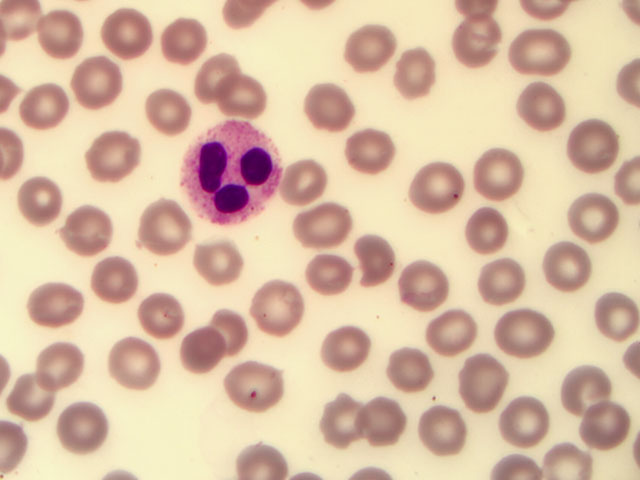RBC: (38, 10, 85, 55), (22, 87, 69, 132), (72, 58, 119, 103), (102, 10, 149, 55), (165, 15, 212, 60), (191, 53, 238, 98), (214, 71, 261, 116), (145, 89, 192, 134), (89, 134, 136, 179), (18, 175, 65, 220), (62, 208, 109, 253), (142, 201, 189, 246), (94, 257, 141, 302), (30, 281, 77, 326), (39, 339, 86, 384), (12, 375, 59, 420), (59, 404, 106, 449), (110, 341, 157, 386), (136, 296, 183, 341), (182, 325, 229, 370), (209, 308, 256, 353), (197, 238, 244, 283), (253, 286, 300, 331), (229, 363, 276, 408), (304, 262, 351, 307), (298, 209, 345, 254), (287, 159, 334, 204), (343, 128, 390, 173), (307, 86, 354, 131), (352, 22, 399, 67), (400, 47, 447, 92), (453, 20, 500, 65), (515, 32, 562, 77), (519, 85, 566, 130), (571, 117, 618, 162), (572, 194, 619, 239), (542, 246, 589, 291), (486, 255, 533, 300), (460, 209, 507, 254), (478, 150, 525, 195), (412, 164, 459, 209), (404, 261, 451, 306), (354, 235, 401, 280), (386, 344, 433, 389), (325, 324, 372, 369), (317, 394, 364, 439), (367, 395, 414, 440), (421, 409, 468, 454), (456, 359, 503, 404), (427, 311, 474, 356), (495, 310, 542, 355), (592, 294, 639, 339), (559, 367, 606, 412), (581, 406, 628, 451), (499, 395, 546, 440), (543, 435, 590, 480), (236, 435, 283, 480)
WBC: (185, 121, 282, 231)
